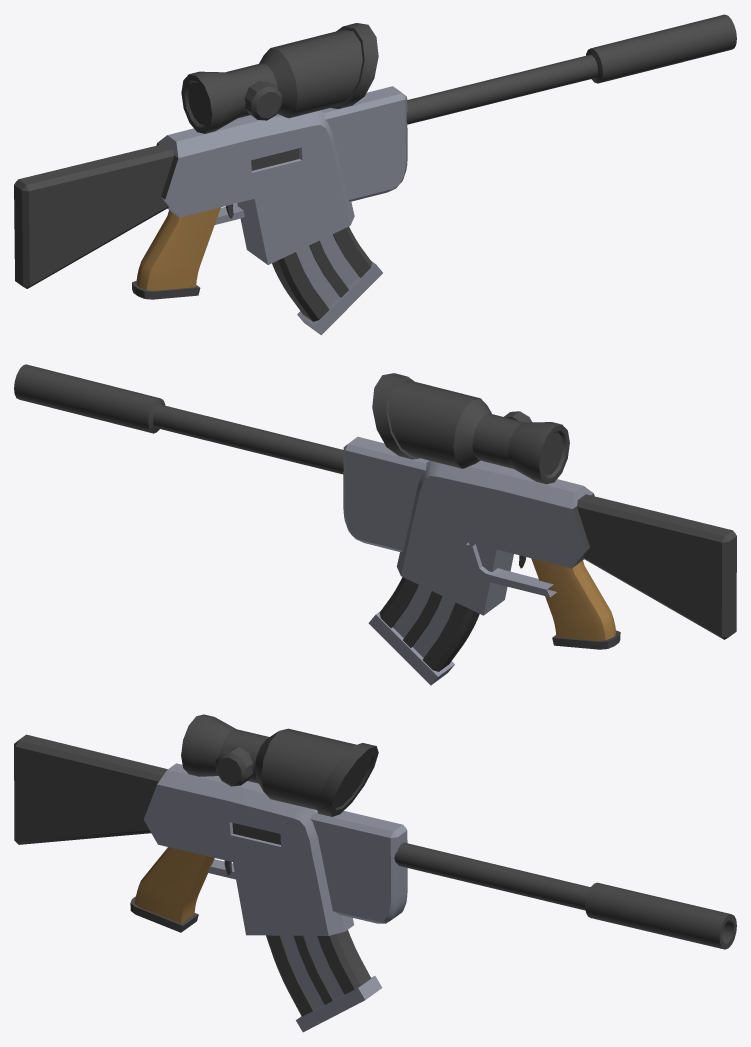
The model's file is Sniper_2.glb.
The picture shows the model from 3 angles, top to bottom: view 1: azimuth 30°, elevation 25°; view 2: azimuth 150°, elevation 25°; view 3: azimuth 330°, elevation 25°; orthographic projection.
Visible parts, largest first — view 1: Sniper_2; view 2: Sniper_2; view 3: Sniper_2.
Boxes of the visible parts, x1=… form: Sniper_2: x1=14, y1=14, x2=736, y2=335; Sniper_2: x1=14, y1=364, x2=736, y2=685; Sniper_2: x1=14, y1=714, x2=736, y2=1032.
Bounding box in the file's own units: 0.8187 × 0.32 × 0.0791.
